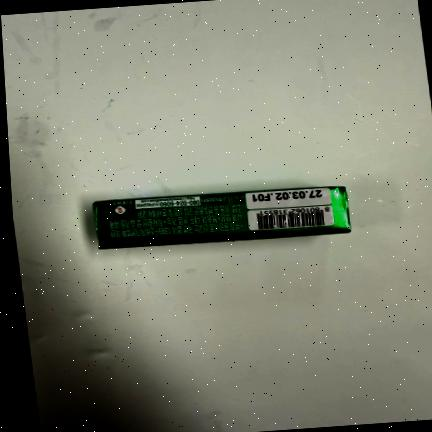gum_green: (92, 186, 350, 248)
